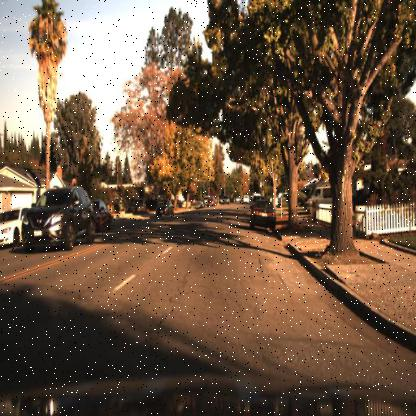car: (22, 184, 95, 254), (302, 176, 340, 219), (0, 207, 34, 250), (249, 198, 279, 236), (300, 184, 334, 208), (153, 194, 173, 223), (206, 194, 217, 210)
